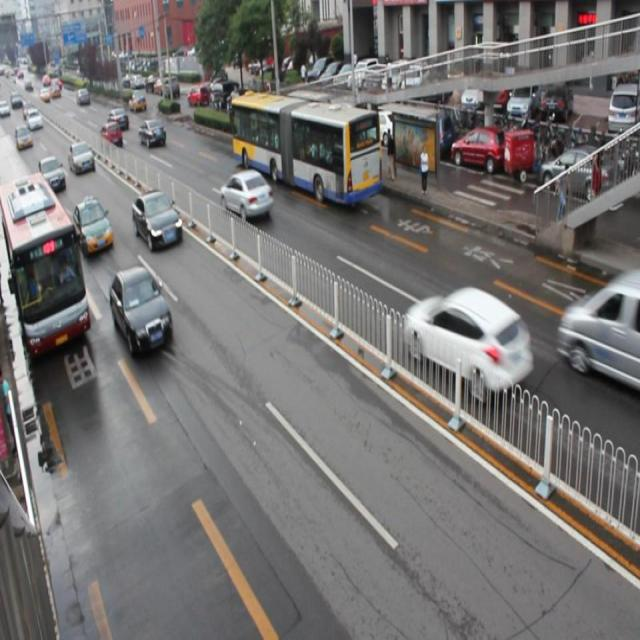car: (405, 289, 532, 400), (109, 264, 172, 356), (132, 189, 184, 251), (220, 172, 272, 219), (74, 195, 112, 258), (39, 157, 64, 189), (70, 140, 94, 173), (139, 119, 165, 149)
truck: (558, 278, 640, 399)
van: (230, 91, 382, 209), (1, 176, 92, 354)
